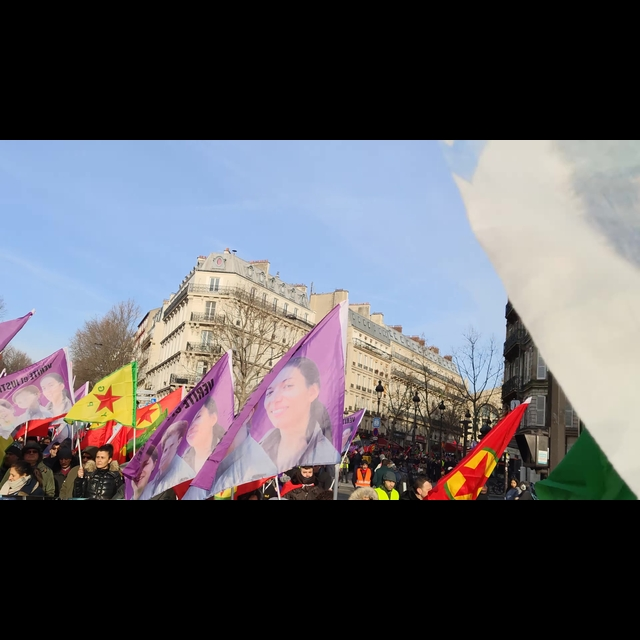YPG: (63, 358, 139, 429)
